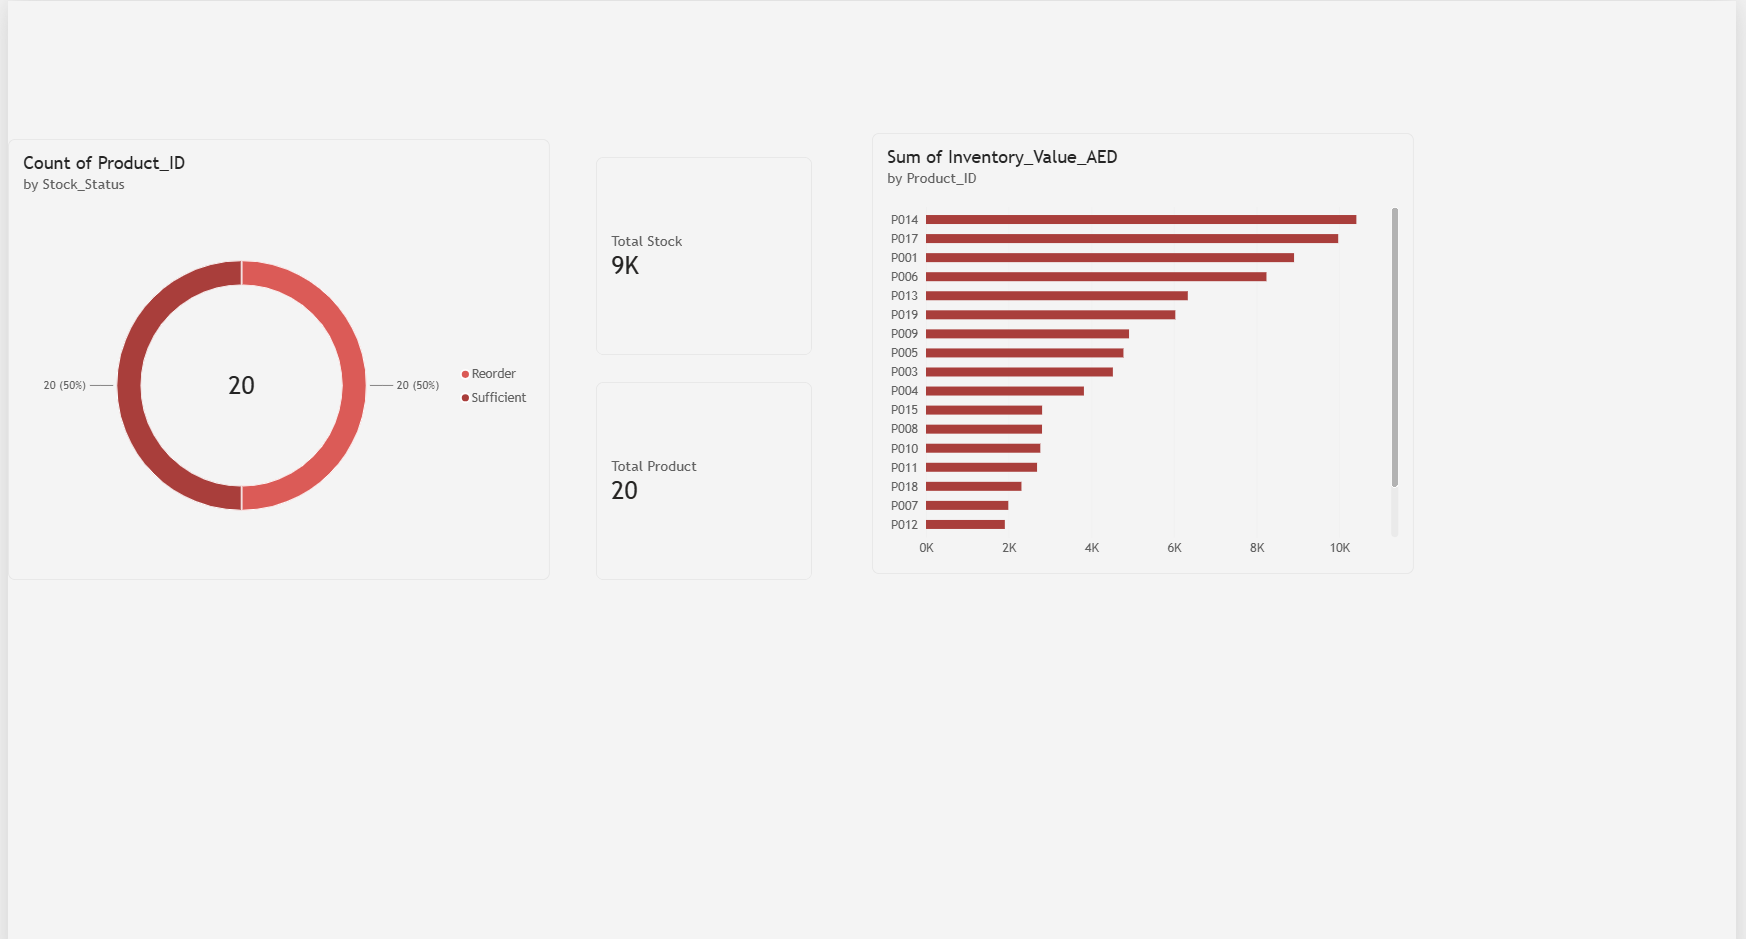

The dashboard page shown, as its layout file describes it:
{"tool":"powerbi","page":{"name":"Inventory Analysis","canvas":[1920,1080],"ordinal":2},"visuals":[{"type":"donutChart","fields":{"Category":["Inventory_Data.Stock_Status"],"Y":["CountNonNull(Product_Master.Product_ID)"]},"box":[0,152,602,490],"z":0},{"type":"clusteredBarChart","fields":{"Category":["Product_Master.Product_ID"],"Y":["Sum(Inventory_Data.Inventory_Value_AED)"]},"box":[960,146,602,490],"z":1},{"type":"cardVisual","fields":{"Data":["Inventory_Data.Total Stock"]},"box":[652,172,240,220],"z":2},{"type":"cardVisual","fields":{"Data":["Inventory_Data.Total Product"]},"box":[652,422,240,220],"z":3}]}

Visuals, with their boxes on the page's 1920x1080 design canvas (x1, y1, x2, y2). These are canvas units, not pixel positions in the 1746x939 screenshot, which may show the page scaled, cropped or inside an application window:
donutChart - Inventory_Data.Stock_Status x CountNonNull(Product_Master.Product_ID): region(0, 152, 602, 642)
clusteredBarChart - Product_Master.Product_ID x Sum(Inventory_Data.Inventory_Value_AED): region(960, 146, 1562, 636)
cardVisual - Inventory_Data.Total Stock: region(652, 172, 892, 392)
cardVisual - Inventory_Data.Total Product: region(652, 422, 892, 642)
